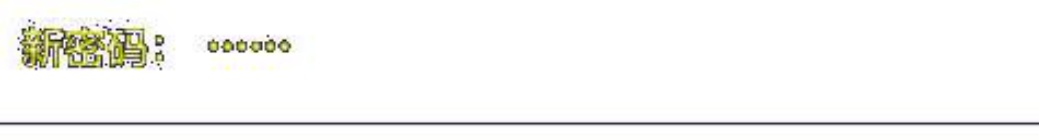EditText: (1, 1, 1038, 139)
